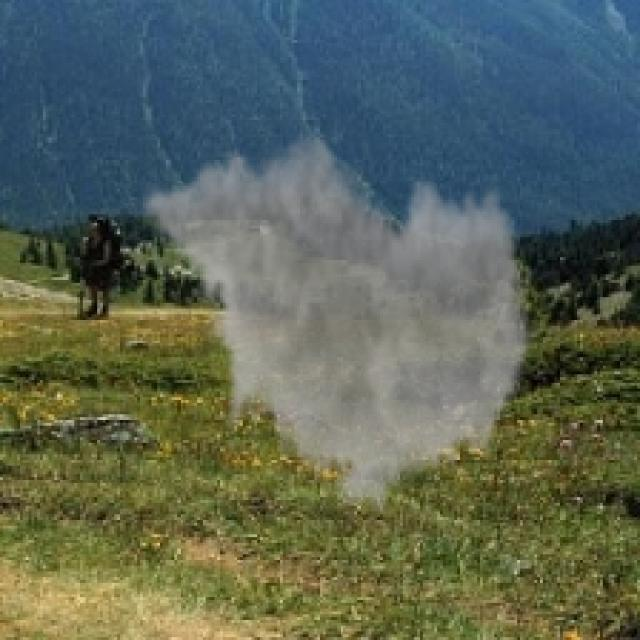Smoke: (137, 123, 537, 523)
